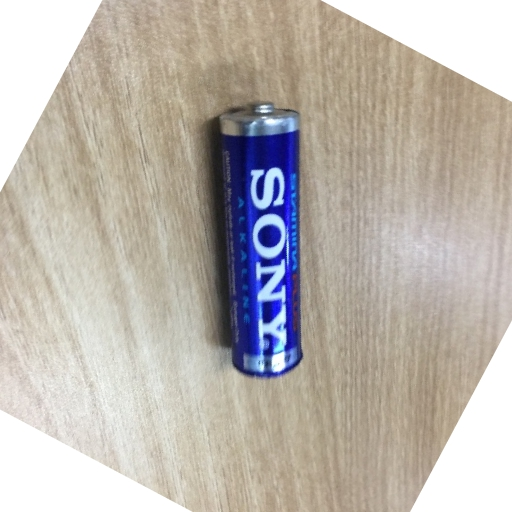Battery_0: (206, 92, 329, 392)
